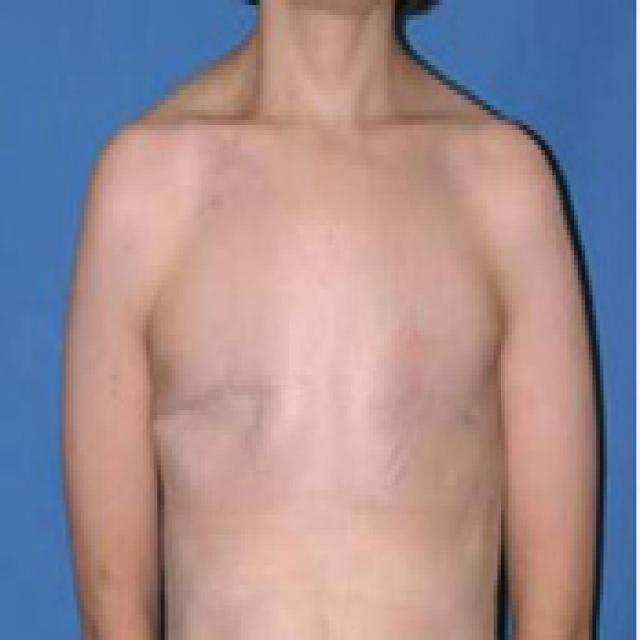Seno herido: (331, 318, 515, 498), (140, 316, 323, 496)
